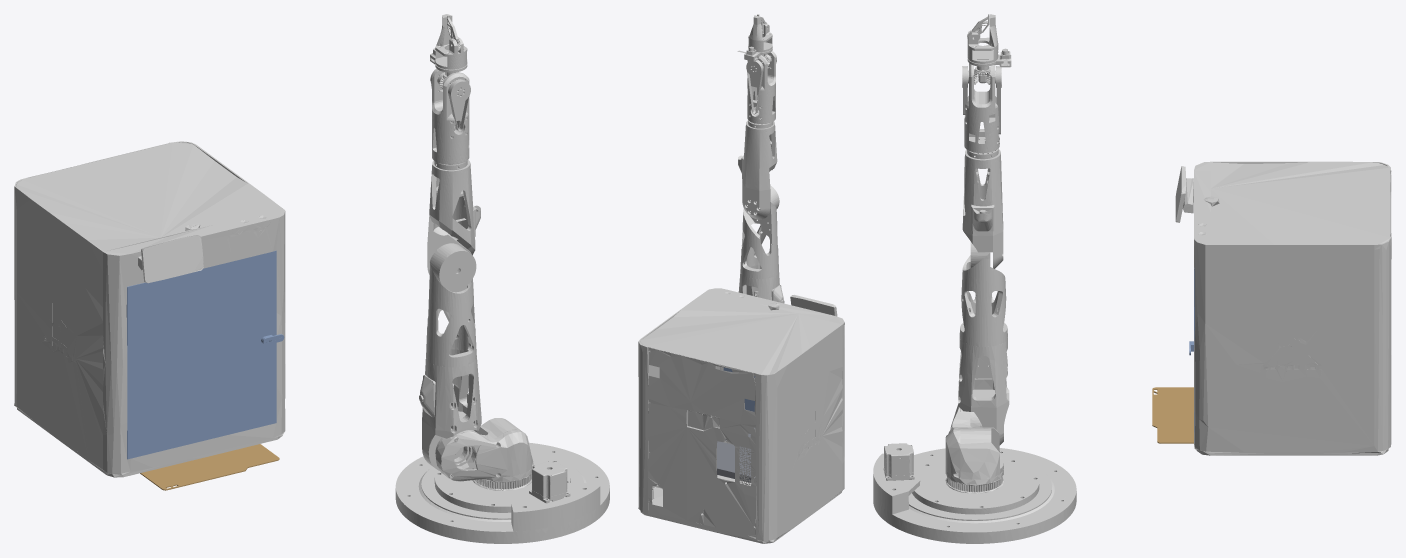
File: arm.glb
3 renders of one model, left to right at view 1: azimuth 30°, elevation 25°; view 2: azimuth 150°, elevation 25°; view 3: azimuth 270°, elevation 25°, orthographic. The views are drawn at different scales.
Parts seen in each view (by area): view 1: base_1, base_4, base_0, j2_0, j1_0, j3_0, j4_0, base_3, ee_0; view 2: base_1, j2_0, j3_0, j4_0, base_2, ee_0; view 3: base_1, base_0, j2_0, j1_0, j3_0, j4_0, base_3, ee_0.
Part boxes in pixels (x1,y1,x2,y2): base_1: (14, 141, 285, 477); base_4: (126, 250, 284, 459); base_0: (395, 442, 609, 543); j2_0: (419, 243, 481, 470); j1_0: (436, 418, 533, 490); j3_0: (427, 159, 480, 274); j4_0: (430, 68, 470, 164); base_3: (140, 444, 279, 490); ee_0: (430, 14, 467, 79); base_1: (638, 288, 844, 543); j2_0: (738, 185, 784, 303); j3_0: (738, 120, 777, 219); j4_0: (746, 51, 776, 123); base_2: (717, 428, 755, 482); ee_0: (737, 15, 772, 61); base_1: (1175, 161, 1391, 455); base_0: (873, 443, 1076, 543); j2_0: (958, 242, 1009, 445); j1_0: (945, 404, 1003, 493); j3_0: (962, 149, 1003, 268); j4_0: (962, 63, 1001, 153); base_3: (1152, 387, 1193, 443); ee_0: (967, 14, 1011, 83).
Size of the model in its own units: 0.794 by 1.01 by 1.02.
